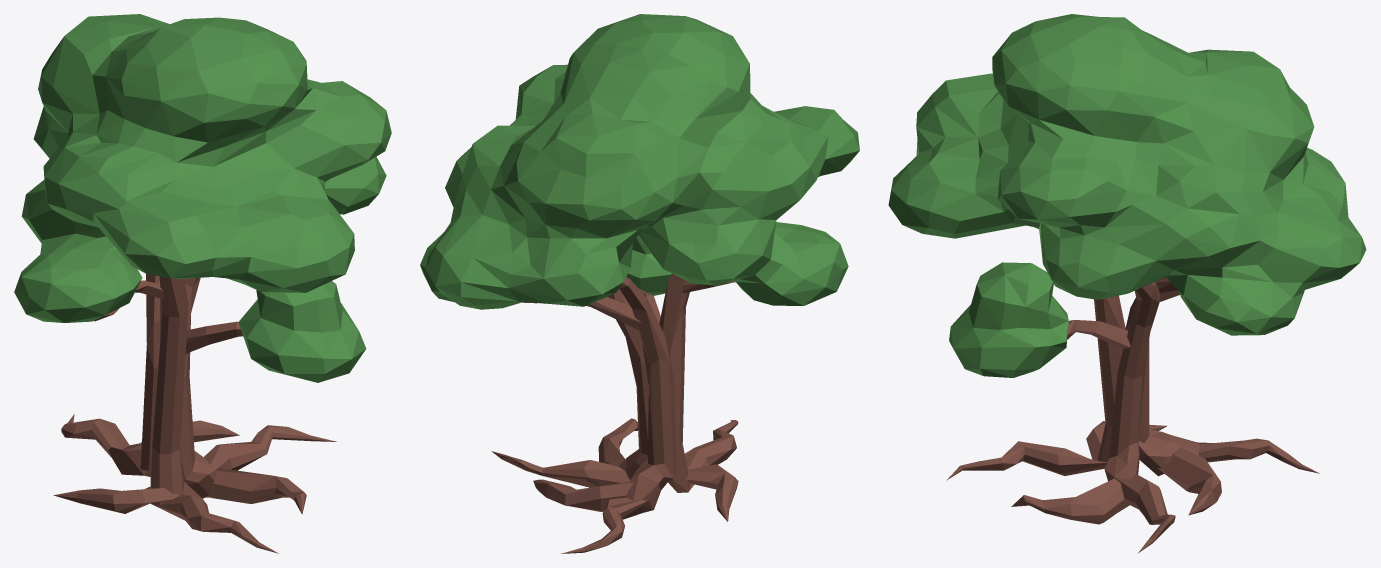
Rendered from BigTree.gltf.
3 views of the same model, side by side, from view 1: azimuth 30°, elevation 25°; view 2: azimuth 150°, elevation 25°; view 3: azimuth 270°, elevation 25° (orthographic). The views are drawn at different scales.
Visible parts, largest first — view 1: Mball.016; view 2: Mball.016; view 3: Mball.016.
Boxes of the visible parts, x1,y1,x2,y2 form: Mball.016: (14, 14, 391, 553); Mball.016: (420, 14, 859, 553); Mball.016: (888, 14, 1366, 553).
Size of the model in its own units: 4.02 by 5.18 by 4.72.
